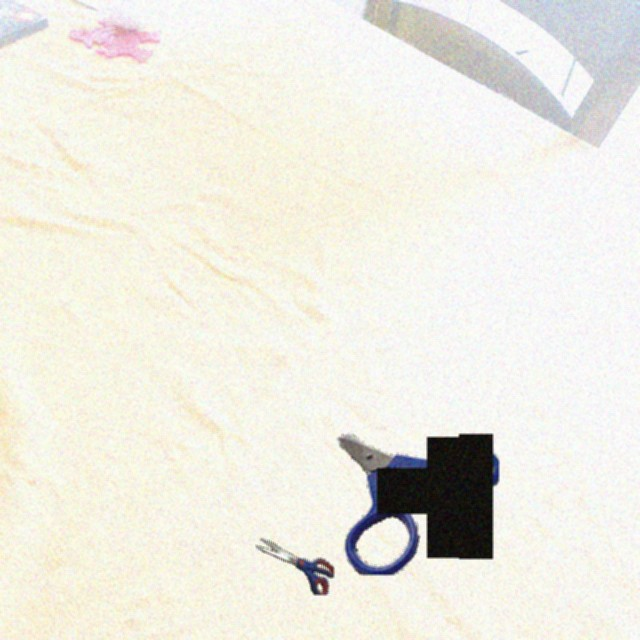scissors: (337, 433, 499, 575), (256, 538, 334, 595)
